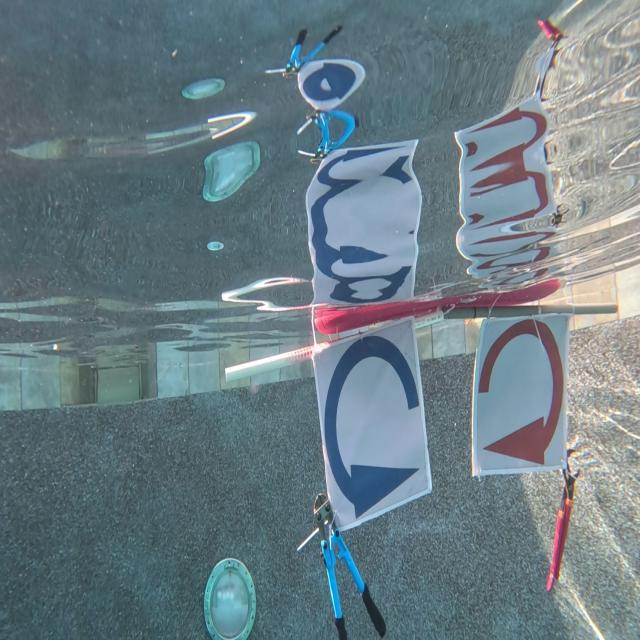blue_side: (317, 332, 424, 514)
red_side: (479, 319, 563, 465)
